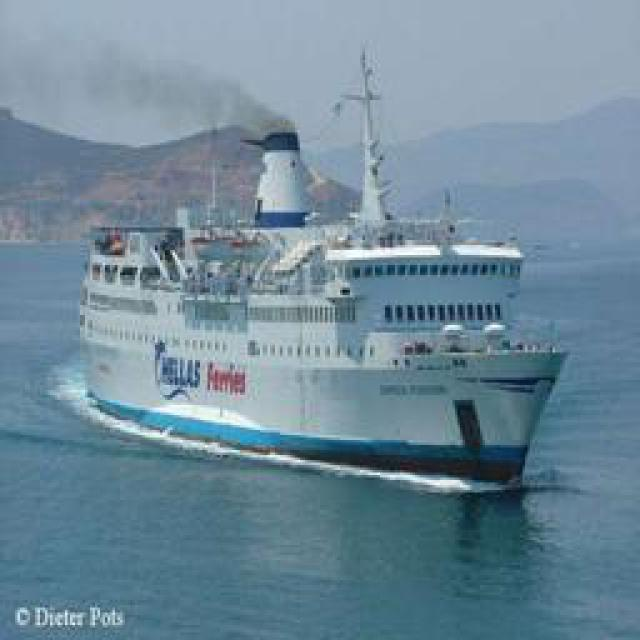Ship: (75, 66, 565, 486)
